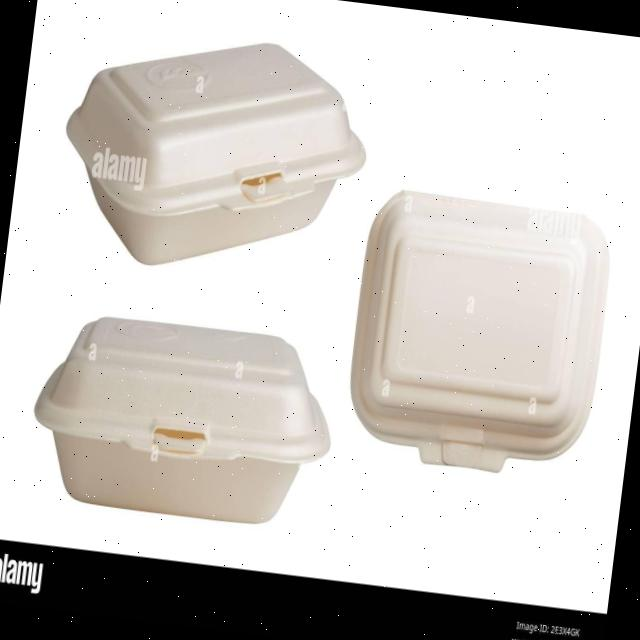styrofoam: (49, 17, 378, 290), (338, 182, 618, 484), (22, 306, 342, 534)
